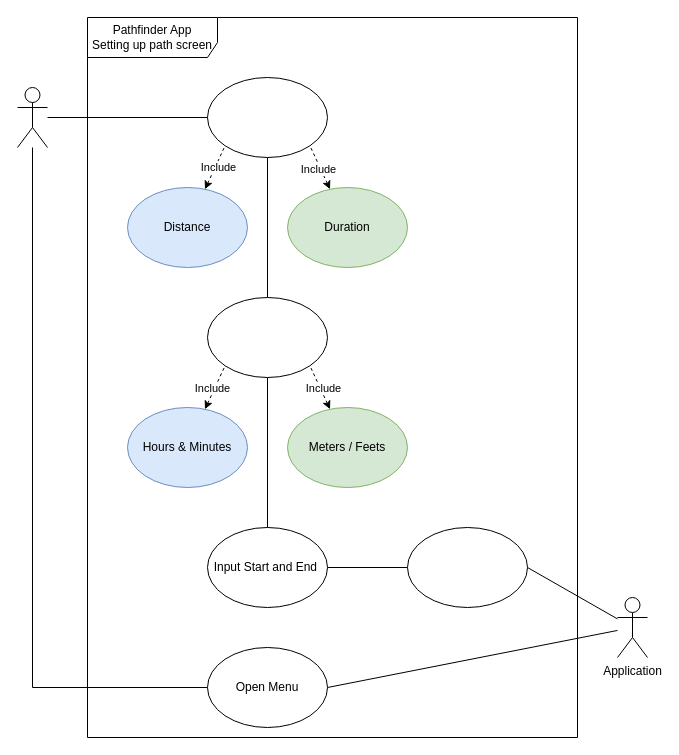
This 679x755 diagram has some shape labels left out. The shapes that lost their labels are listed below. From the top down, each one's box as (x1, y1, x2, y2) in pixels, then its label:
(16, 86, 48, 148): User
(206, 76, 328, 158): Choose path type
(206, 296, 328, 378): Input first path specs
(406, 526, 528, 608): Input OR NOT steps
